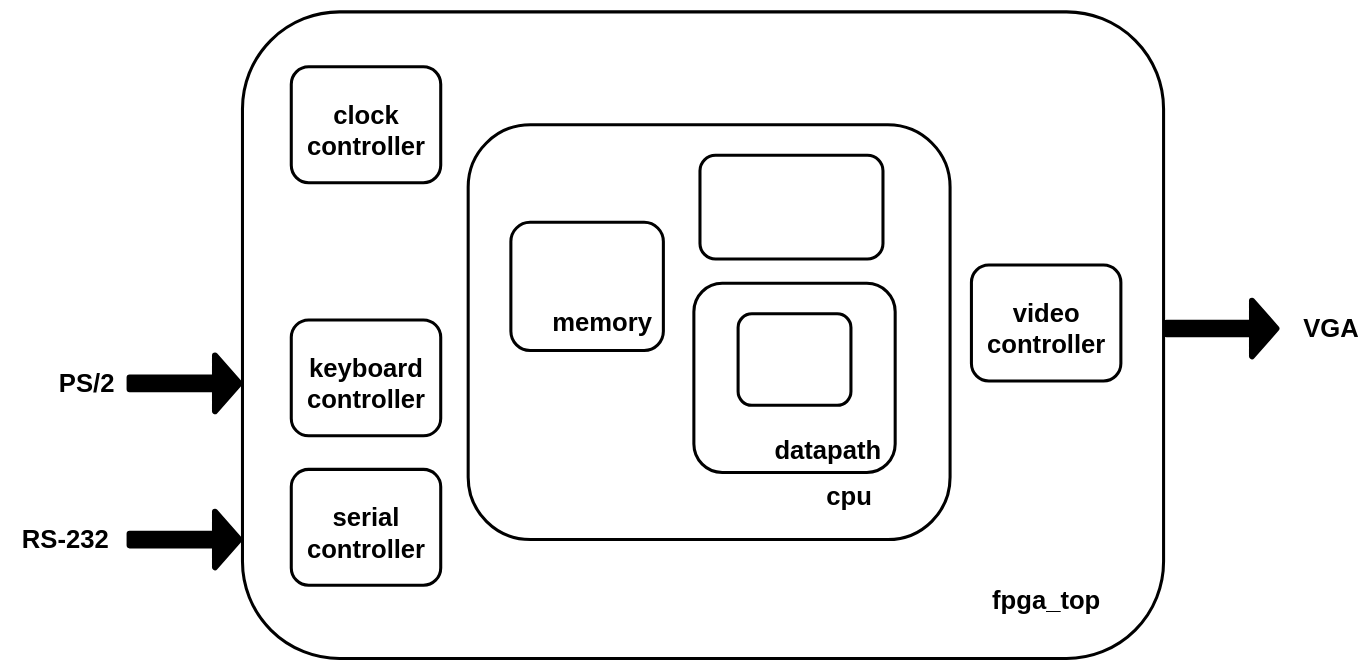
This 1369x670 diagram has some shape labels left out. Each missing label, with the box of its shape:
control: (698, 153, 884, 260)
regfile: (736, 312, 852, 407)
